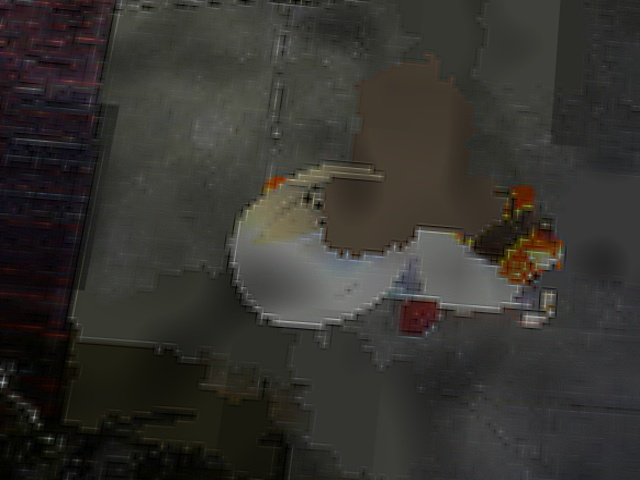eight: (305, 180, 372, 235)
